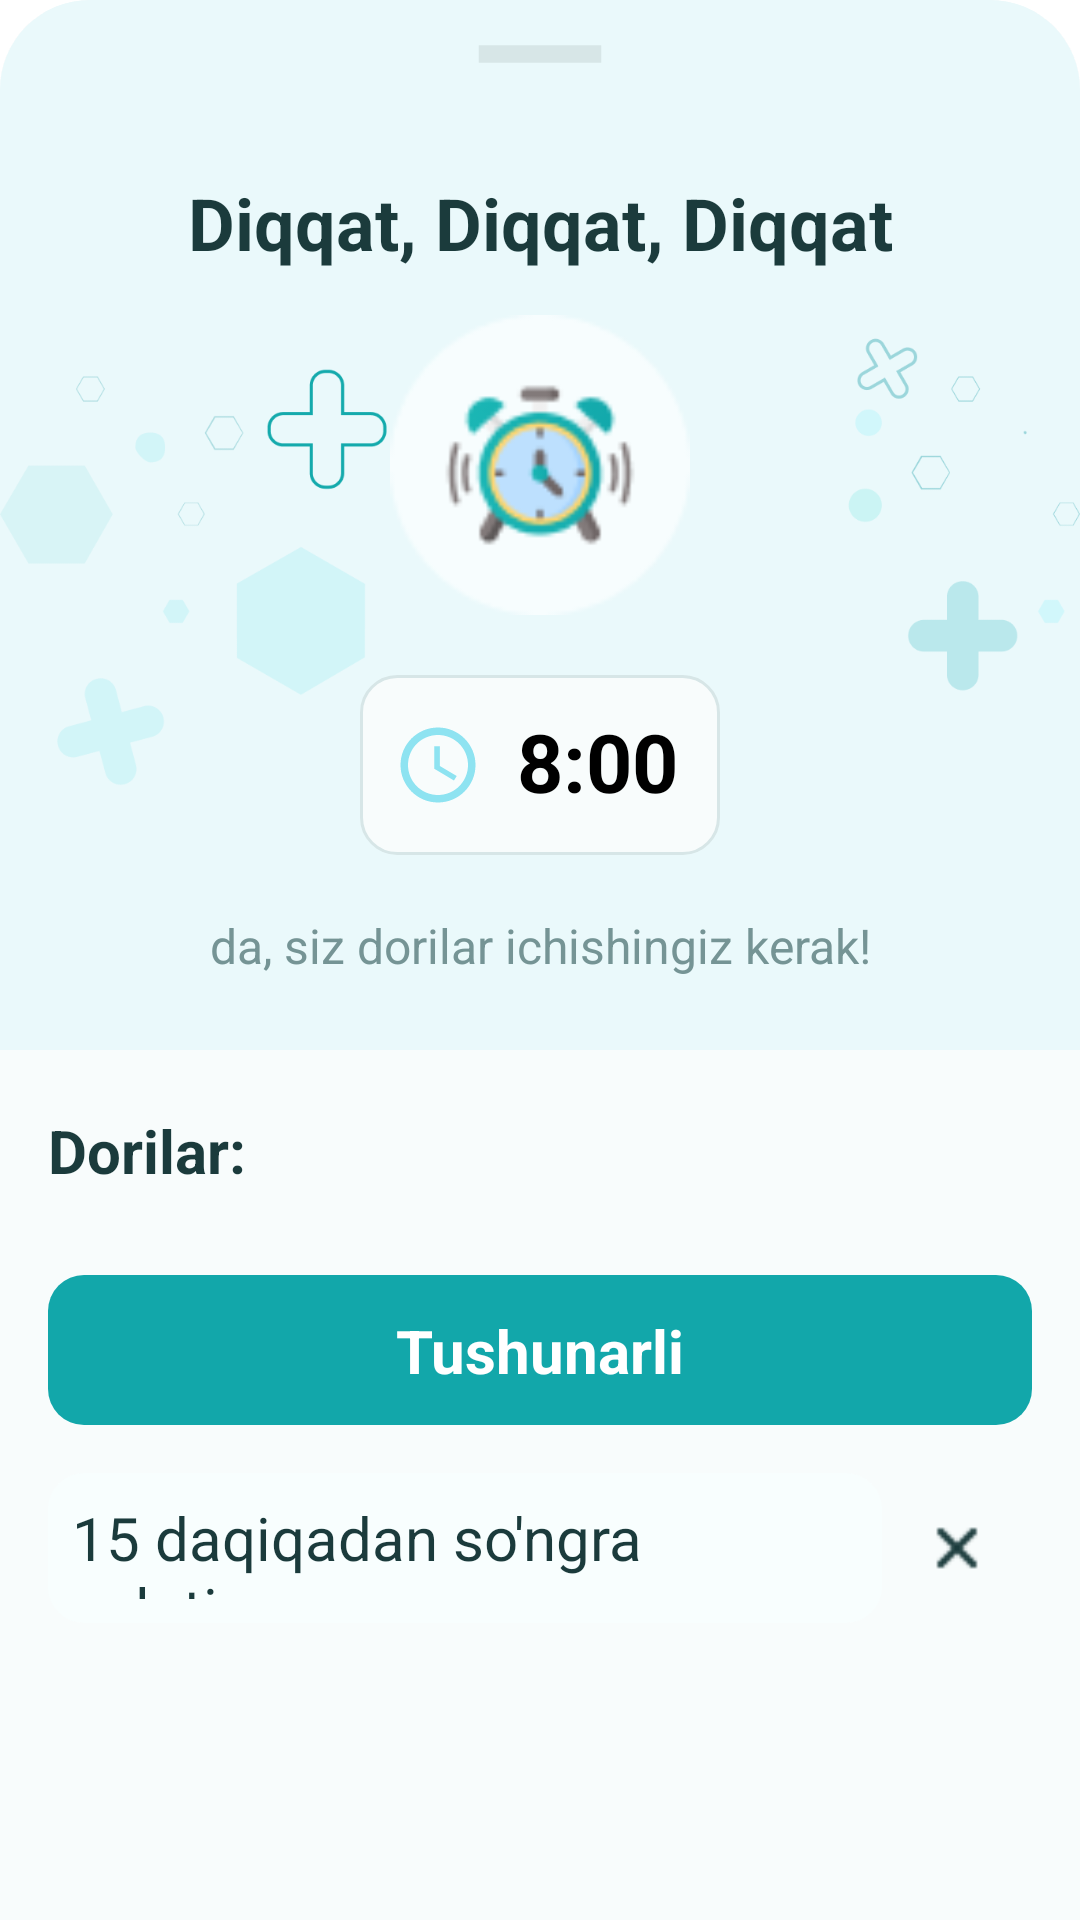

Where icons sit on this 1080px×1920px app screen, as BBox(x1, y1, x2, y2):
access time: BBox(400, 727, 476, 803)
alarm: BBox(447, 386, 633, 544)
otmen: BBox(936, 1527, 978, 1569)
